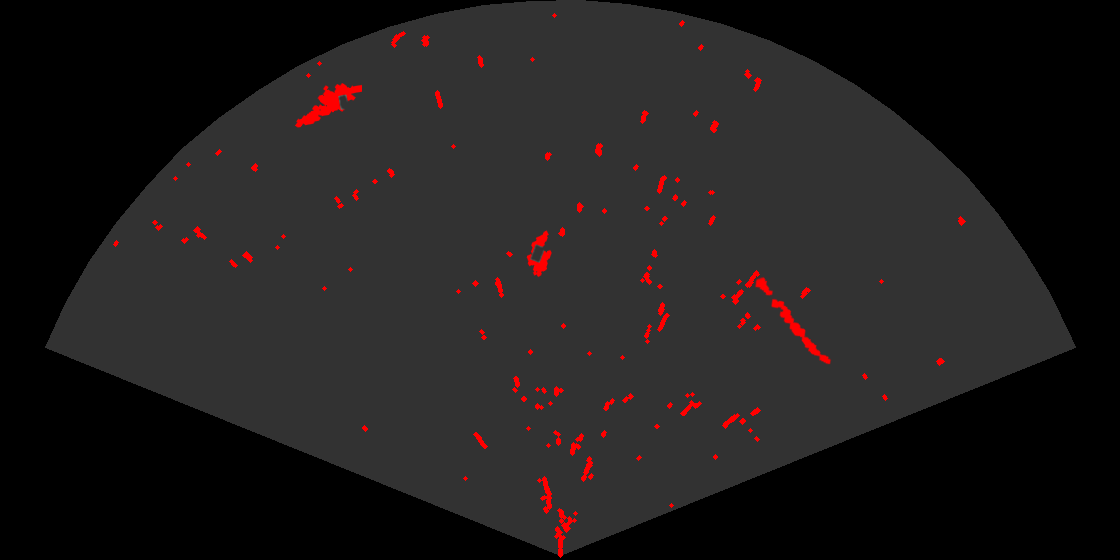AUV: (525, 229, 553, 279)
chain: (753, 275, 833, 366)
frogman: (293, 82, 362, 129)
